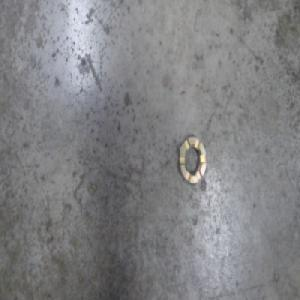Nut: (178, 132, 206, 187)
